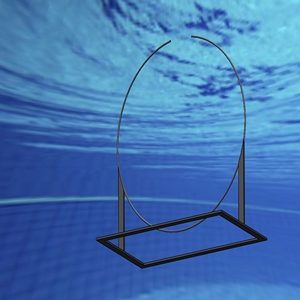circle: (94, 34, 269, 267)
